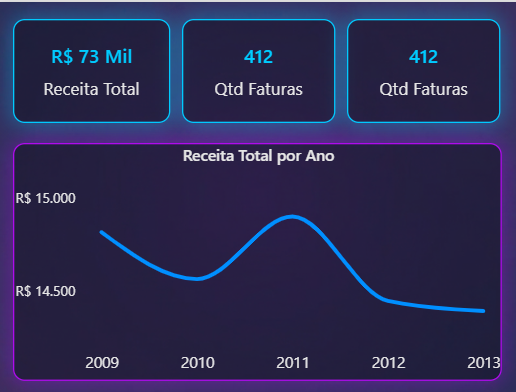

The page's visual inventory and layout, read from the dashboard file:
{"tool":"powerbi","page":{"name":"TT","canvas":[400,300],"ordinal":1},"visuals":[{"type":"card","fields":{"Values":["# Medidas.Receita Total"]},"box":[11,13,121,80],"z":0},{"type":"card","fields":{"Values":["# Medidas.Qtd Faturas"]},"box":[141,13,118,80],"z":1000},{"type":"card","fields":{"Values":["# Medidas.Qtd Faturas"]},"box":[268,13,118,80],"z":2000},{"type":"lineChart","title":"Receita Total por Ano","fields":{"Category":["Calendario.Ano Hierarquia.Ano","Calendario.Ano Hierarquia.Trimestre","Calendario.Ano Hierarquia.MesNome","Calendario.Ano Hierarquia.Data"],"Y":["# Medidas.Receita Total"]},"box":[10.8,108.3,375.8,183.3],"z":3000}]}

Visuals, with their boxes in screenshot pixels (x1, y1, x2, y2), scaled from the page's 400x300 canvas onto the 516x392 screenshot:
card - # Medidas.Receita Total: [left=14, top=17, right=170, bottom=122]
card - # Medidas.Qtd Faturas: [left=182, top=17, right=334, bottom=122]
card - # Medidas.Qtd Faturas: [left=346, top=17, right=498, bottom=122]
"Receita Total por Ano" lineChart: [left=14, top=142, right=499, bottom=381]
